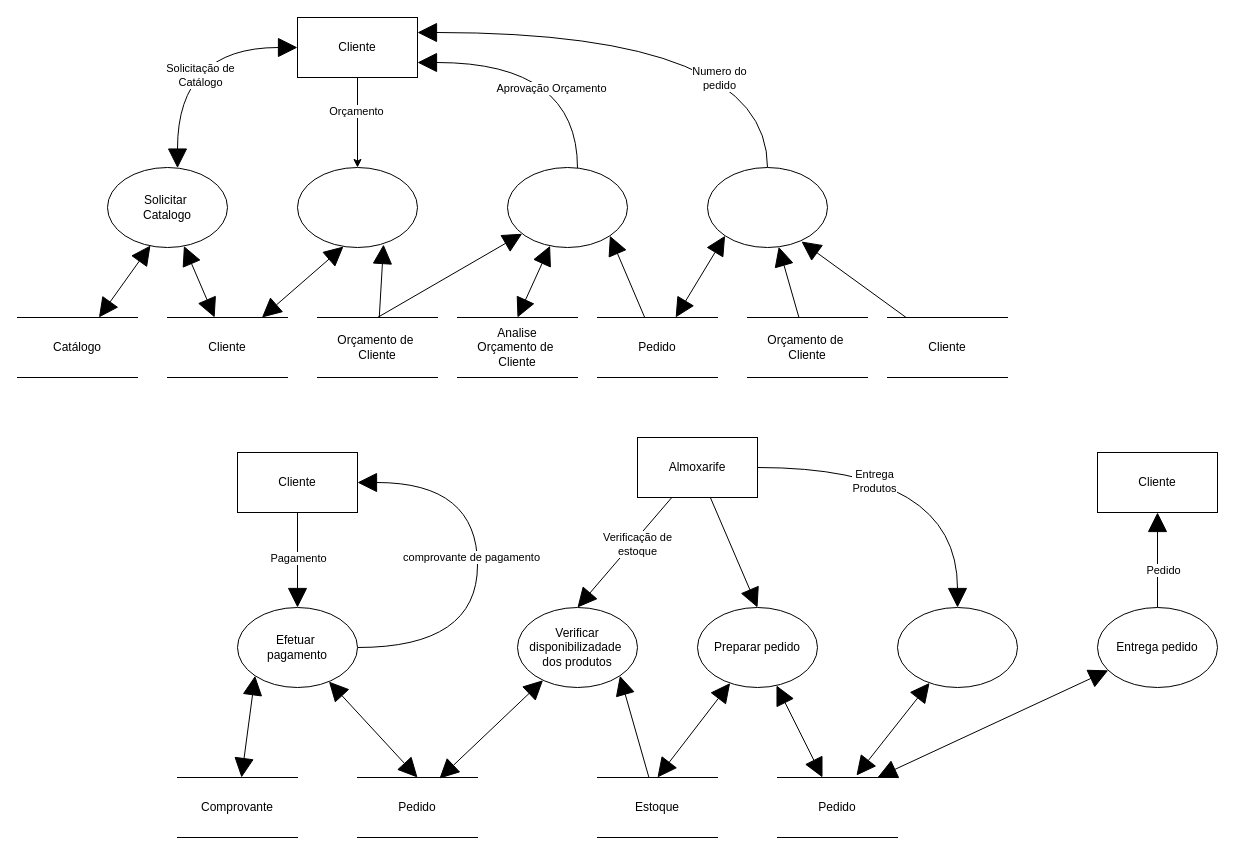
Image size: 1235x855. Some labels were removed from this diagram. The shapes that lost their labels are listed below. From the top down, each one's centre as x and y in pixels, then its label:
At pixel 357 207: "Entregar orçamento".
At pixel 567 207: "Analisar orçamento".
At pixel 767 207: "Gerar pedido".
At pixel 957 647: "Despachar pedido".
